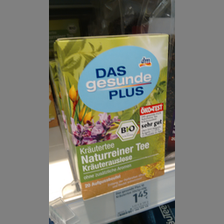tea: (54, 34, 170, 201)
